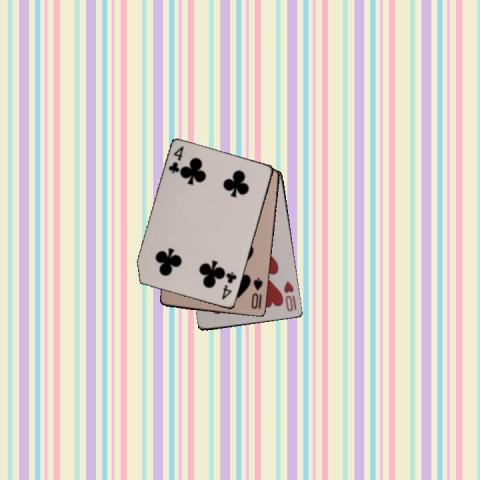10h: (281, 278, 298, 313)
10s: (249, 275, 264, 311)
4c: (219, 269, 238, 301), (166, 143, 185, 175)
